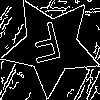F: (26, 21, 67, 73)
